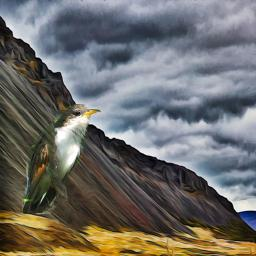Cuckoo: (22, 104, 101, 214)
